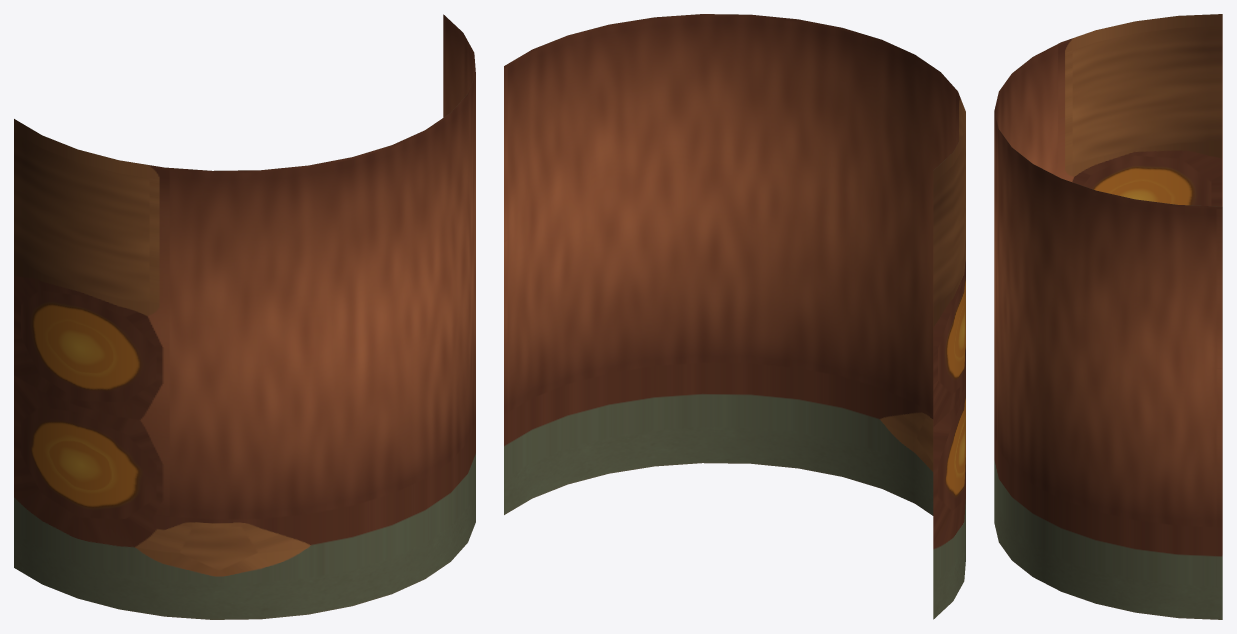
File: CoreWood.fbx
The picture shows the model from 3 angles, left to right: view 1: azimuth 30°, elevation 25°; view 2: azimuth 150°, elevation 25°; view 3: azimuth 270°, elevation 25°; orthographic projection. The views are drawn at different scales.
Parts seen in each view (by area): view 1: CoreWood; view 2: CoreWood; view 3: CoreWood.
Part boxes in pixels (x1,y1,x2,y2): CoreWood: [14, 14, 475, 619]; CoreWood: [504, 14, 965, 619]; CoreWood: [994, 14, 1222, 619].
Size of the model in its own units: 2 by 2 by 1.
